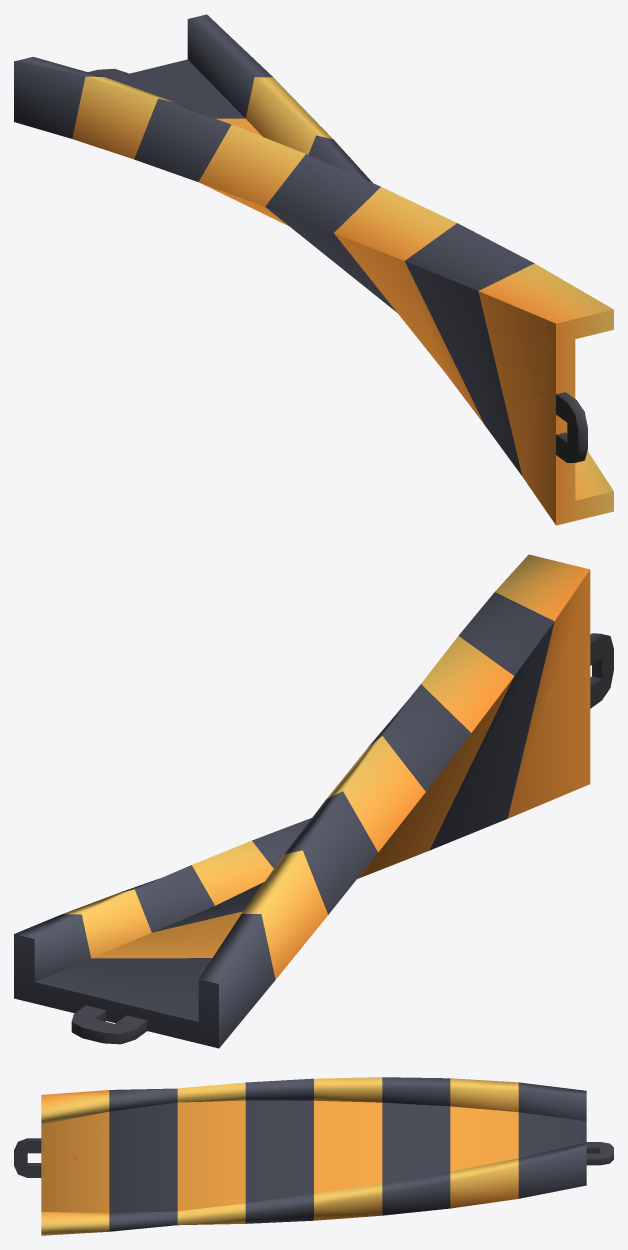
File: track-striped-narrow-straight-skew-left-side.fbx
3 views of the same model, one above another, from view 1: azimuth 30°, elevation 25°; view 2: azimuth 150°, elevation 25°; view 3: azimuth 270°, elevation 25° (orthographic). The views are drawn at different scales.
Parts seen in each view (by area): view 1: track-striped-narrow-straight-skew-left-side; view 2: track-striped-narrow-straight-skew-left-side; view 3: track-striped-narrow-straight-skew-left-side.
Boxes of the visible parts, x1,y1,x2,y2 form: track-striped-narrow-straight-skew-left-side: (14, 14, 613, 525); track-striped-narrow-straight-skew-left-side: (14, 554, 613, 1048); track-striped-narrow-straight-skew-left-side: (14, 1077, 613, 1235).
Size of the model in its own units: 108 by 108 by 440.
